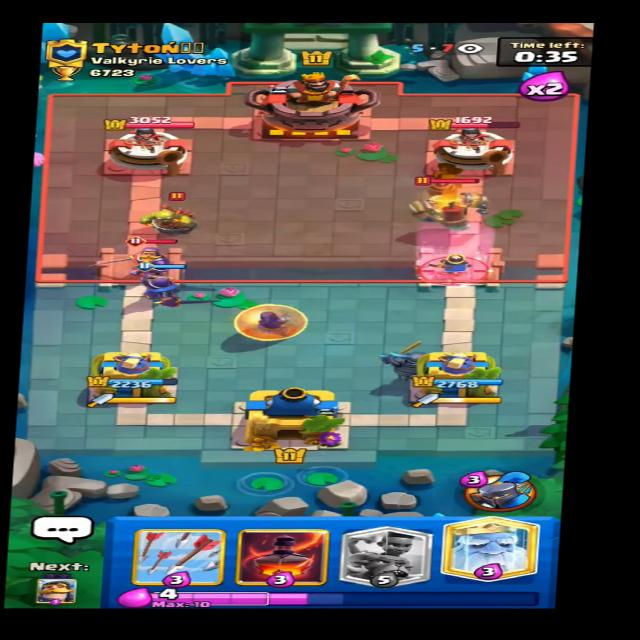evo-knight: (114, 234, 189, 278)
goblin-demolisher: (135, 195, 222, 236)
goblin-machine: (397, 177, 493, 226)
